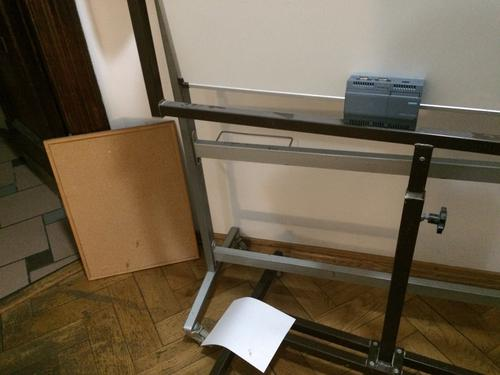iot2000: (342, 73, 424, 132)
